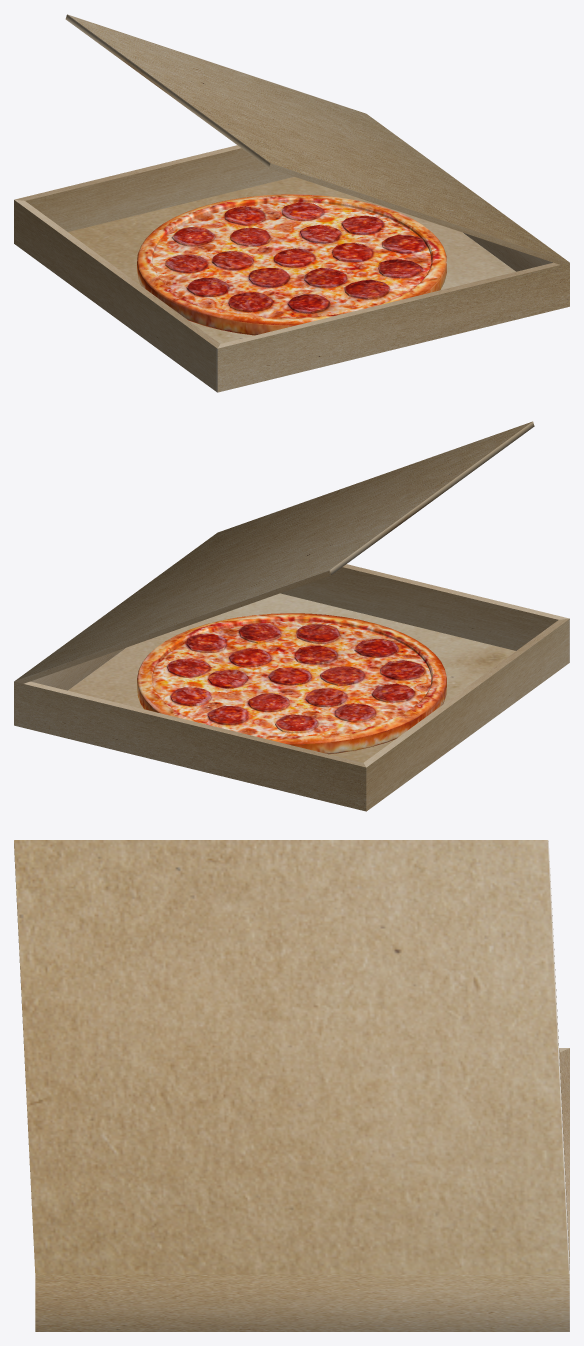
File: retro_style_pepperoni_pizza.glb
The picture shows the model from 3 angles, top to bottom: view 1: azimuth 30°, elevation 25°; view 2: azimuth 150°, elevation 25°; view 3: azimuth 270°, elevation 25°; orthographic projection. The views are drawn at different scales.
Visible parts, largest first — view 1: PizzaBox, PizzaPizza; view 2: PizzaBox, PizzaPizza; view 3: PizzaBox.
Part boxes in pixels (x1,y1,x2,y2): PizzaBox: (14, 14, 569, 392); PizzaPizza: (137, 194, 446, 335); PizzaBox: (14, 421, 569, 811); PizzaPizza: (137, 613, 446, 754); PizzaBox: (14, 840, 569, 1331).
Bounding box in the file's own units: 3.49 × 2.12 × 3.63.
2 materials, 2 textured.
